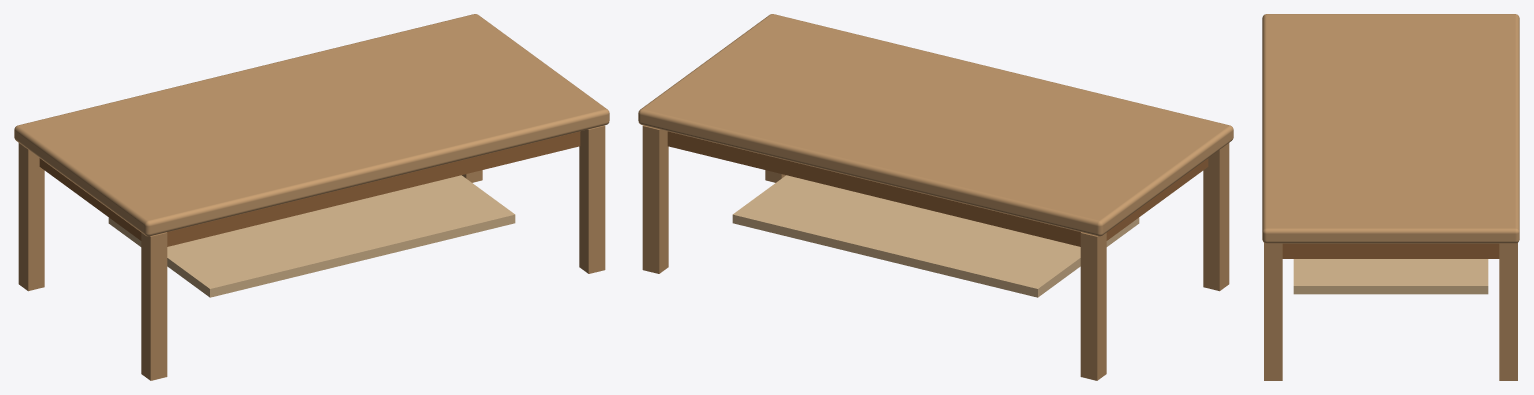
File: squarecoffeetable-lite.glb
3 renders of one model, left to right at view 1: azimuth 30°, elevation 25°; view 2: azimuth 150°, elevation 25°; view 3: azimuth 270°, elevation 25°, orthographic. The views are drawn at different scales.
Parts seen in each view (by area): view 1: material-0-top, material-3-shelf, material-2-leg, material-1-trim; view 2: material-0-top, material-3-shelf, material-2-leg, material-1-trim; view 3: material-0-top, material-3-shelf, material-2-leg, material-1-trim.
Boxes of the visible parts, <box> form: material-0-top: <box>14,14,609,236</box>; material-3-shelf: <box>108,175,515,297</box>; material-2-leg: <box>18,125,605,380</box>; material-1-trim: <box>39,131,580,246</box>; material-0-top: <box>638,14,1233,236</box>; material-3-shelf: <box>732,175,1139,297</box>; material-2-leg: <box>642,125,1229,380</box>; material-1-trim: <box>667,131,1208,246</box>; material-0-top: <box>1262,14,1519,243</box>; material-3-shelf: <box>1293,259,1488,294</box>; material-2-leg: <box>1264,243,1517,380</box>; material-1-trim: <box>1282,243,1499,258</box>.
Size of the model in its own units: 1.4 by 0.46 by 0.7.
